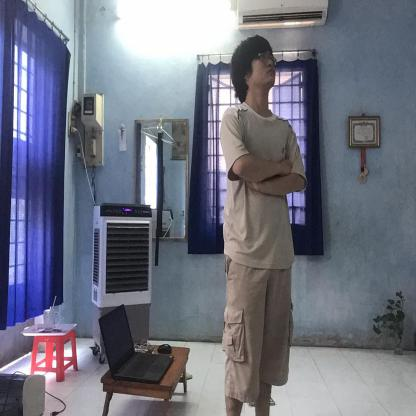person: (216, 34, 310, 413)
